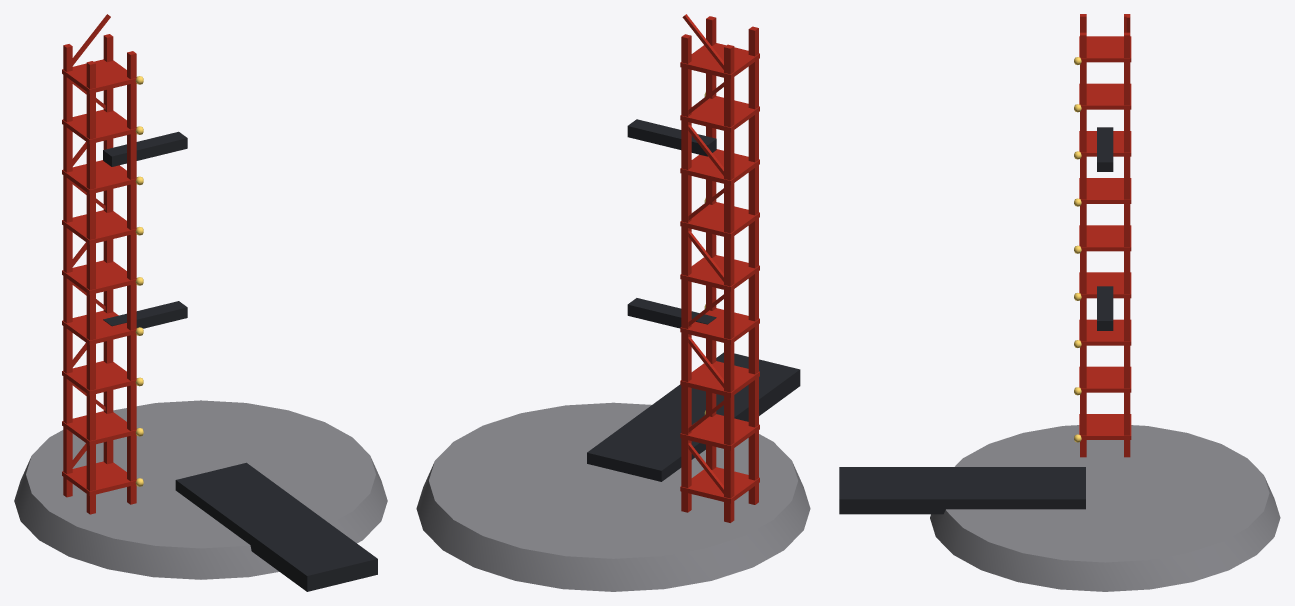
Rendered from Plataforma.obj.
The picture shows the model from 3 angles, left to right: view 1: azimuth 30°, elevation 25°; view 2: azimuth 150°, elevation 25°; view 3: azimuth 270°, elevation 25°; orthographic projection. The views are drawn at different scales.
Parts seen in each view (by area): view 1: Base, Torre, Brazo; view 2: Base, Torre, Brazo; view 3: Base, Torre, Brazo.
Part boxes in pixels (x1,y1,x2,y2): Base: (14,400,387,591); Torre: (62,14,143,514); Brazo: (103,131,187,328); Base: (416,352,810,591); Torre: (680,14,759,522); Brazo: (627,119,716,328); Base: (839,425,1280,591); Torre: (1074,14,1131,457); Brazo: (1097,127,1113,330).
Bounding box in the file's own units: 6.4 × 9.39 × 8.05.
